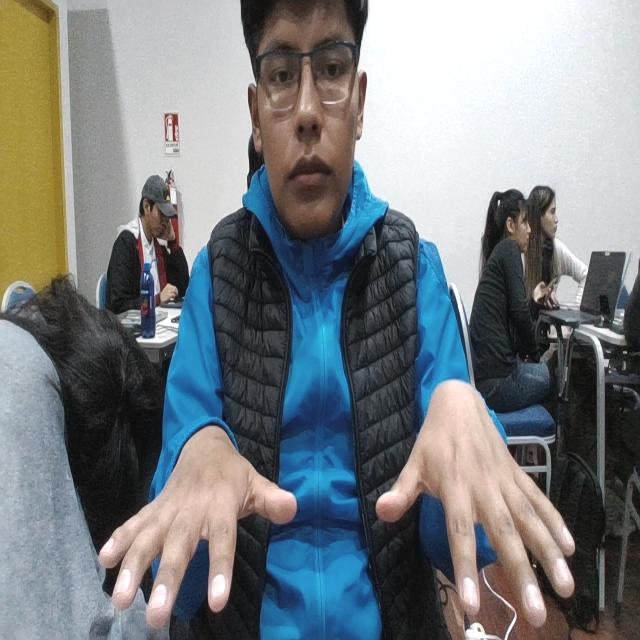calm: (85, 395, 590, 640)
